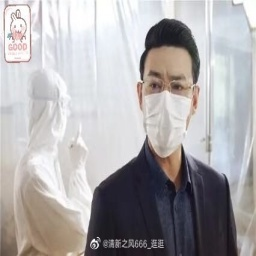correctlyWear: (136, 63, 200, 158)
